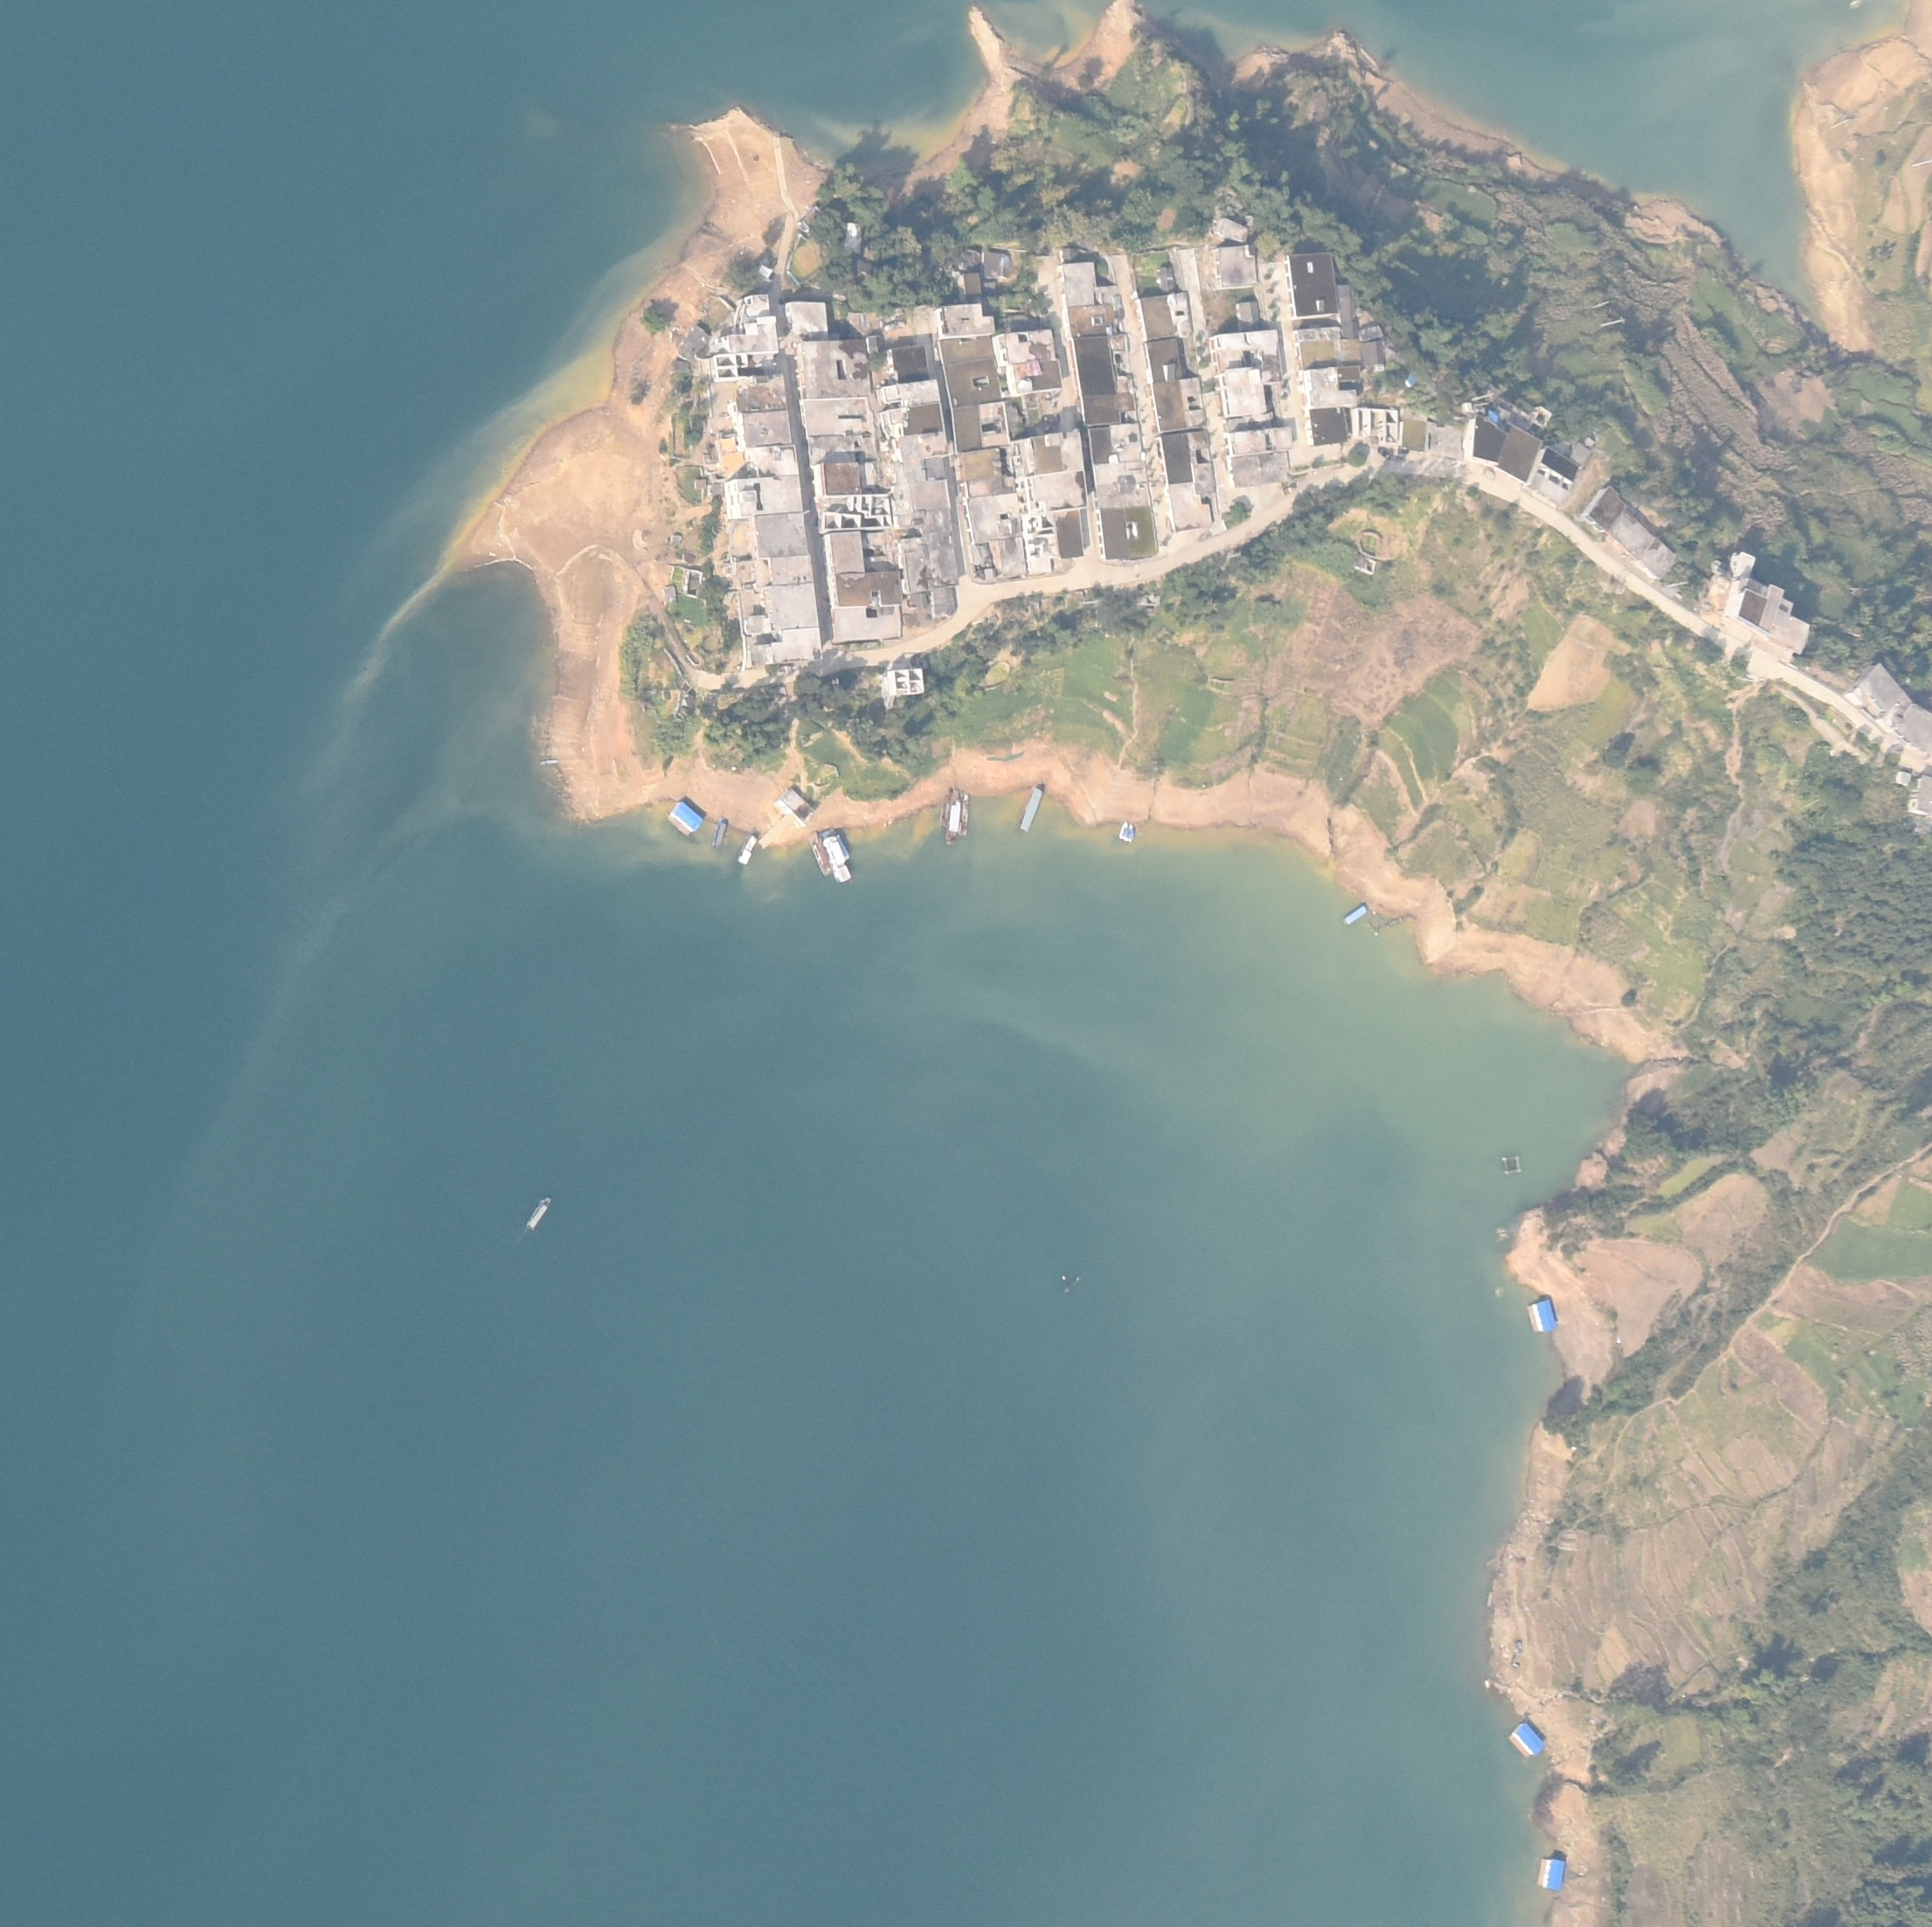building: (1844, 662, 1932, 754), (1729, 552, 1808, 653), (1011, 431, 1087, 510), (1159, 432, 1214, 531), (1606, 514, 1674, 582), (898, 510, 958, 588), (939, 337, 1004, 404), (999, 330, 1062, 395), (803, 337, 872, 397), (1226, 427, 1292, 485), (1295, 328, 1385, 369), (1210, 330, 1279, 381), (882, 378, 944, 434), (1073, 335, 1129, 395), (1284, 254, 1336, 318), (1099, 506, 1159, 559), (725, 476, 803, 515), (949, 402, 1009, 450), (1152, 378, 1203, 432), (1094, 461, 1150, 508), (958, 446, 1011, 496), (1498, 425, 1540, 487), (1030, 510, 1085, 558), (1136, 291, 1191, 339), (799, 397, 866, 436), (831, 607, 903, 642), (965, 496, 1022, 540), (769, 584, 820, 630), (835, 572, 900, 607), (1304, 367, 1360, 408), (1535, 448, 1574, 506), (898, 436, 949, 480), (974, 540, 1027, 582), (752, 515, 806, 556), (1087, 425, 1142, 464), (1583, 482, 1623, 533), (1221, 371, 1265, 416), (736, 374, 787, 413), (937, 304, 995, 337), (739, 411, 792, 446), (768, 628, 820, 664), (723, 319, 778, 353), (1082, 394, 1136, 427), (1306, 406, 1352, 445), (1212, 247, 1254, 288), (1466, 418, 1505, 462), (787, 300, 829, 339), (1067, 304, 1115, 335), (1147, 341, 1186, 379), (827, 531, 865, 572), (886, 346, 928, 381), (750, 445, 799, 475), (1060, 263, 1097, 302), (775, 791, 815, 826), (819, 462, 861, 496), (907, 478, 951, 510), (1337, 282, 1362, 339), (766, 554, 812, 584), (806, 436, 856, 462), (676, 323, 708, 364), (884, 669, 923, 699), (736, 293, 771, 321), (1399, 420, 1427, 452), (1216, 217, 1249, 242), (843, 221, 865, 259), (1235, 300, 1262, 330), (1914, 775, 1932, 817), (983, 251, 1009, 277), (958, 274, 985, 300), (928, 591, 955, 616), (1097, 282, 1120, 305), (1156, 268, 1177, 293), (743, 616, 771, 634), (1059, 247, 1080, 263), (1897, 769, 1913, 787), (757, 263, 773, 277)
cable-tower: (1590, 298, 1630, 330)
cultivation-mesh-cage: (1501, 1156, 1521, 1175)
prefabricated-house: (665, 799, 702, 836), (1510, 1721, 1544, 1756), (1526, 1301, 1556, 1334), (1537, 1858, 1565, 1890)
ship: (808, 828, 852, 881), (1015, 780, 1045, 835), (942, 789, 969, 845), (524, 1195, 554, 1232), (738, 835, 757, 868), (1339, 905, 1367, 925), (713, 817, 727, 849), (1117, 822, 1133, 840), (538, 757, 558, 766)
